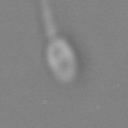normal: (34, 1, 58, 38)
